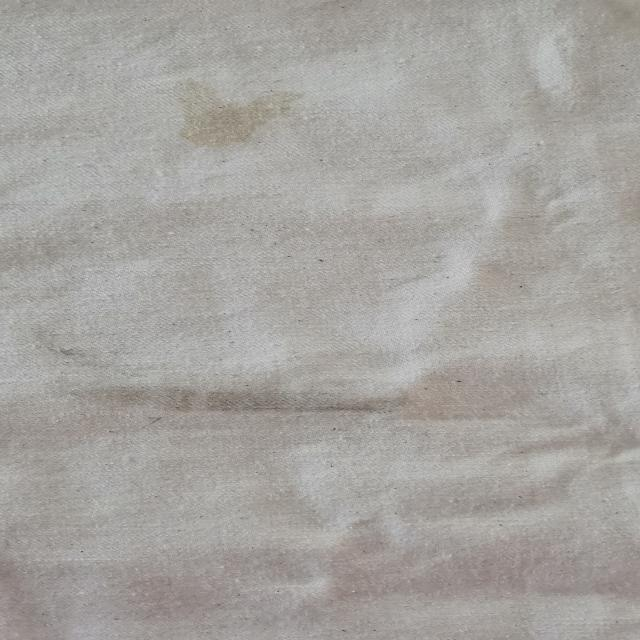taaaches: (41, 369, 451, 428), (161, 76, 342, 142)
